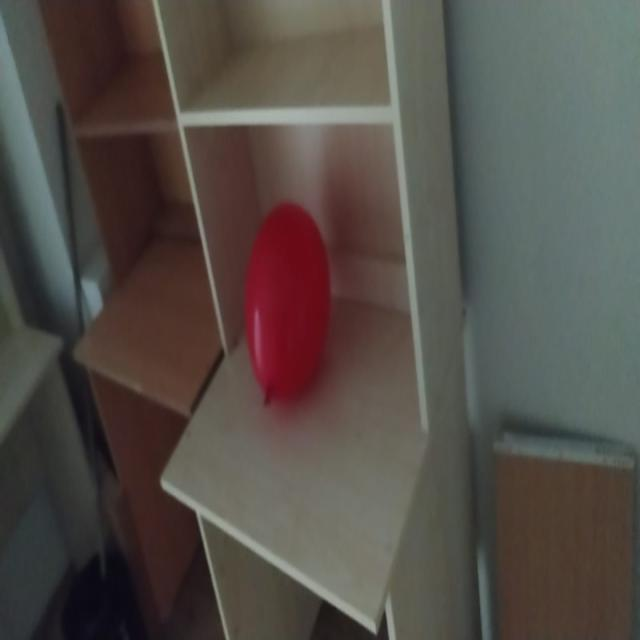balloon: (232, 186, 338, 412)
